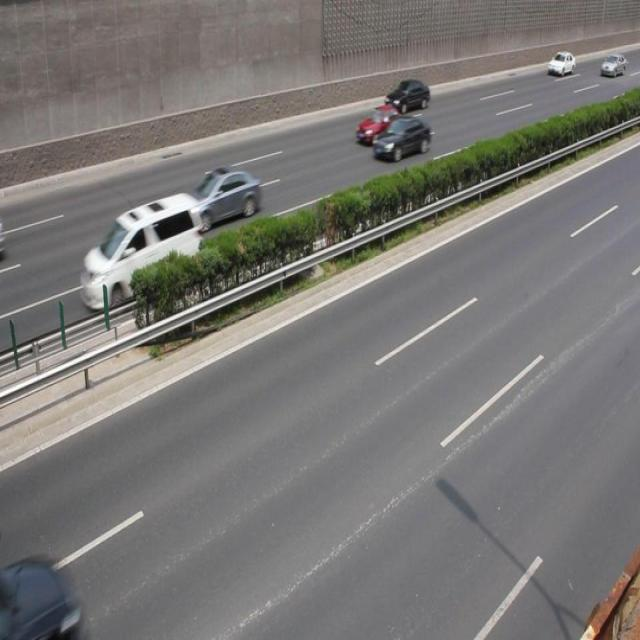car: (78, 194, 204, 314), (171, 168, 260, 235), (372, 114, 429, 162), (356, 104, 406, 145), (384, 78, 429, 112), (546, 49, 574, 77)
